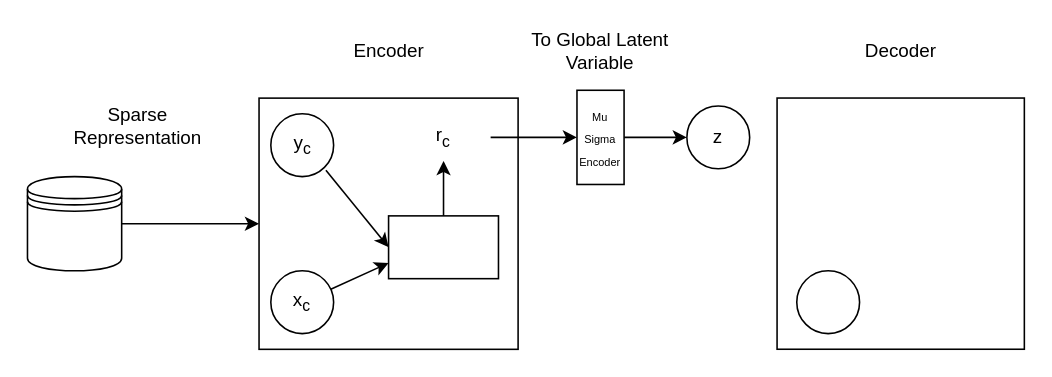
The diagram is 1052 pixels wide and 377 high, and some of its shapes have lost their labels. Each missing label, with the box of its shape:
Simple 2 layer NN: (387, 214, 498, 279)
x t: (795, 269, 860, 334)
